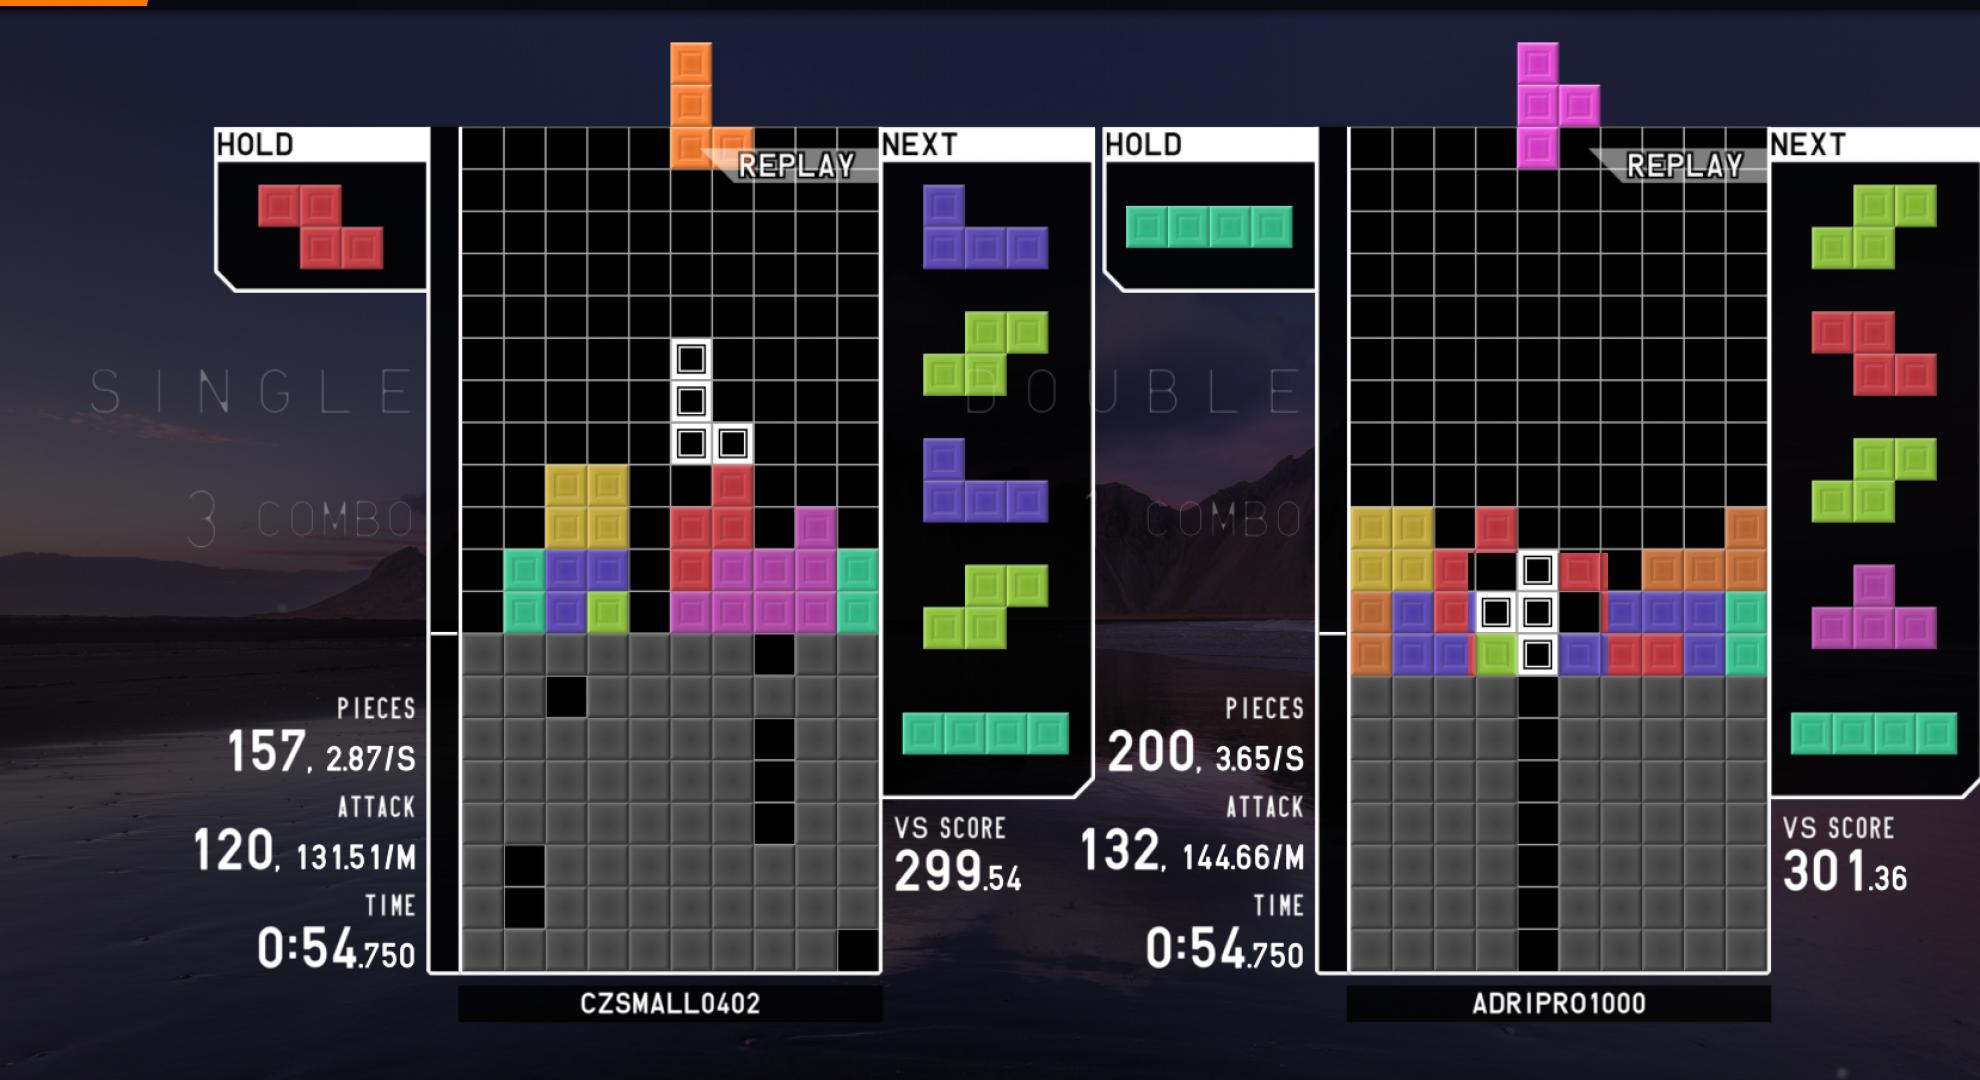tspin: (1468, 553, 1608, 677)
